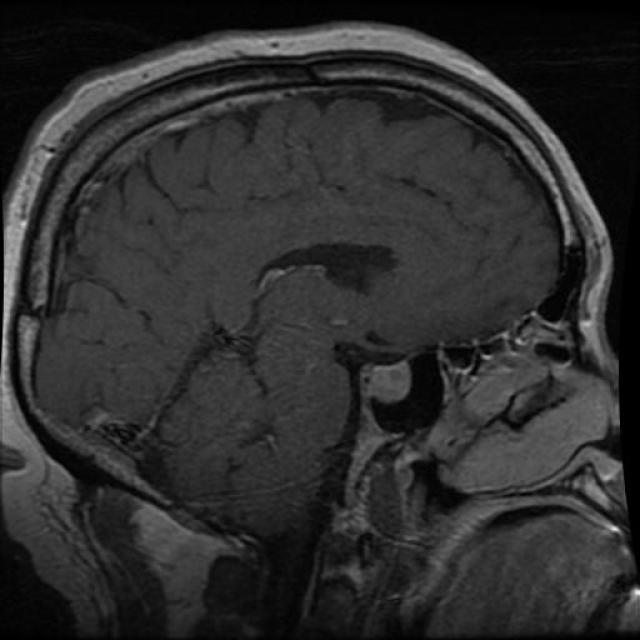pituitary: (342, 337, 429, 422)
